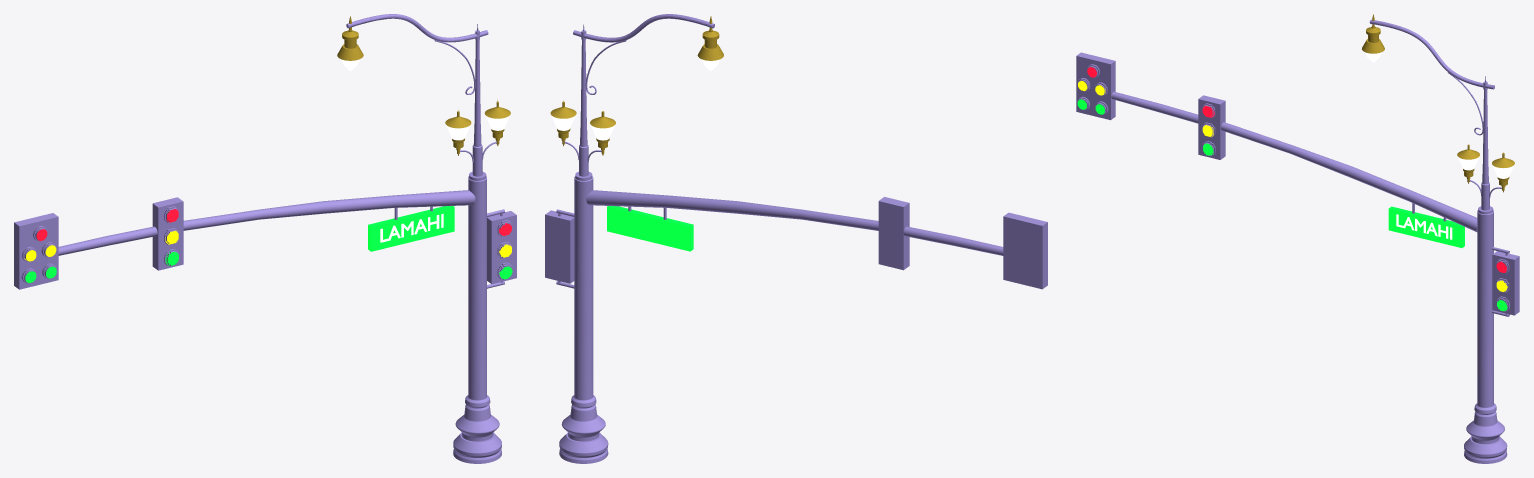
The model's file is traffic_light.glb.
3 renders of one model, left to right at view 1: azimuth 30°, elevation 25°; view 2: azimuth 150°, elevation 25°; view 3: azimuth 330°, elevation 25°, orthographic. The views are drawn at different scales.
Visible parts, largest first — view 1: Cylinder, Text; view 2: Cylinder; view 3: Cylinder.
Boxes of the visible parts, bbox=[...] form: Cylinder: bbox=[14, 14, 516, 463]; Text: bbox=[380, 213, 443, 242]; Cylinder: bbox=[545, 14, 1047, 463]; Cylinder: bbox=[1076, 14, 1519, 463].
Size of the model in its own units: 7.09 by 6.39 by 0.6066.
